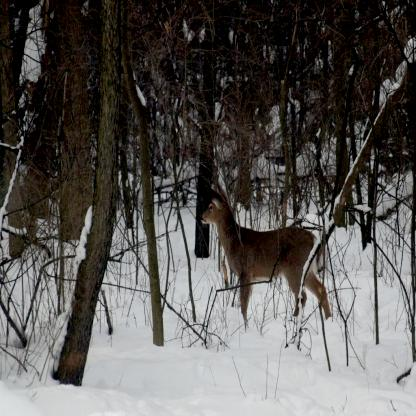Deer: (198, 178, 332, 340)
